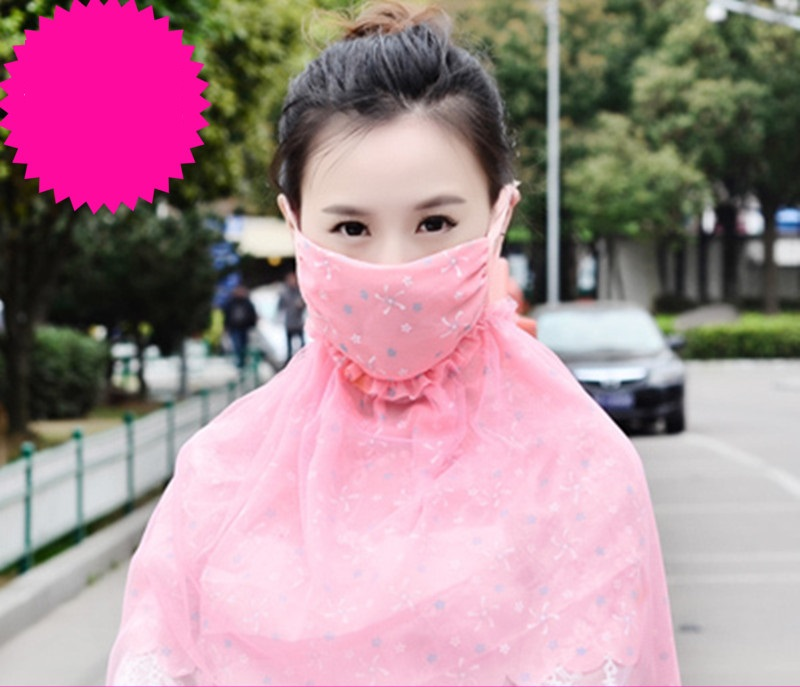face_mask: (292, 112, 493, 367)
